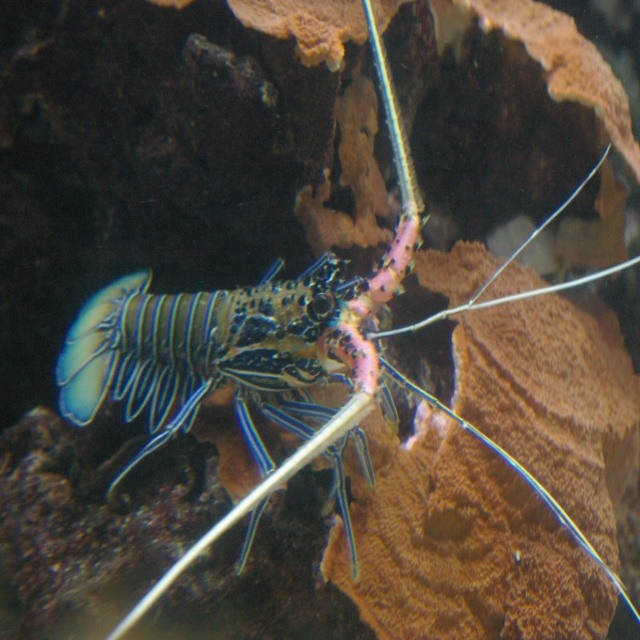Shrimp: (52, 0, 640, 639)
